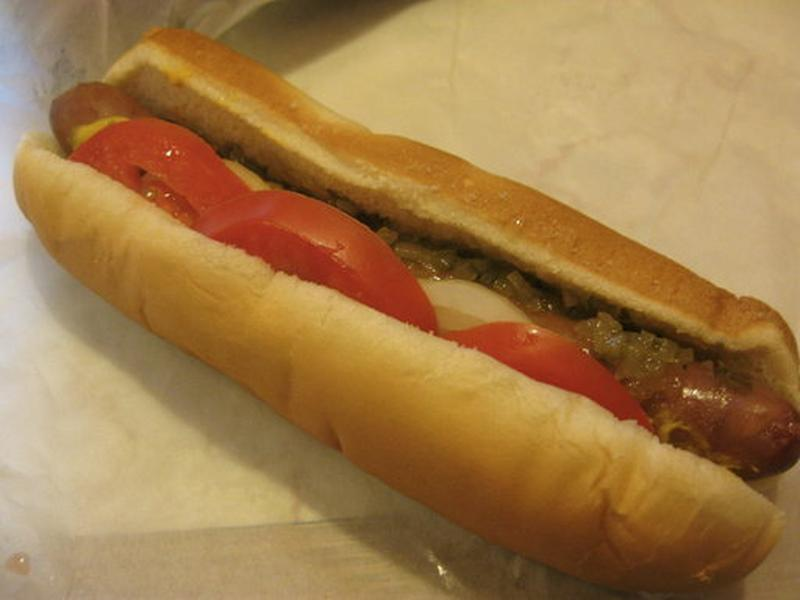hot_dog: (11, 5, 790, 600)
